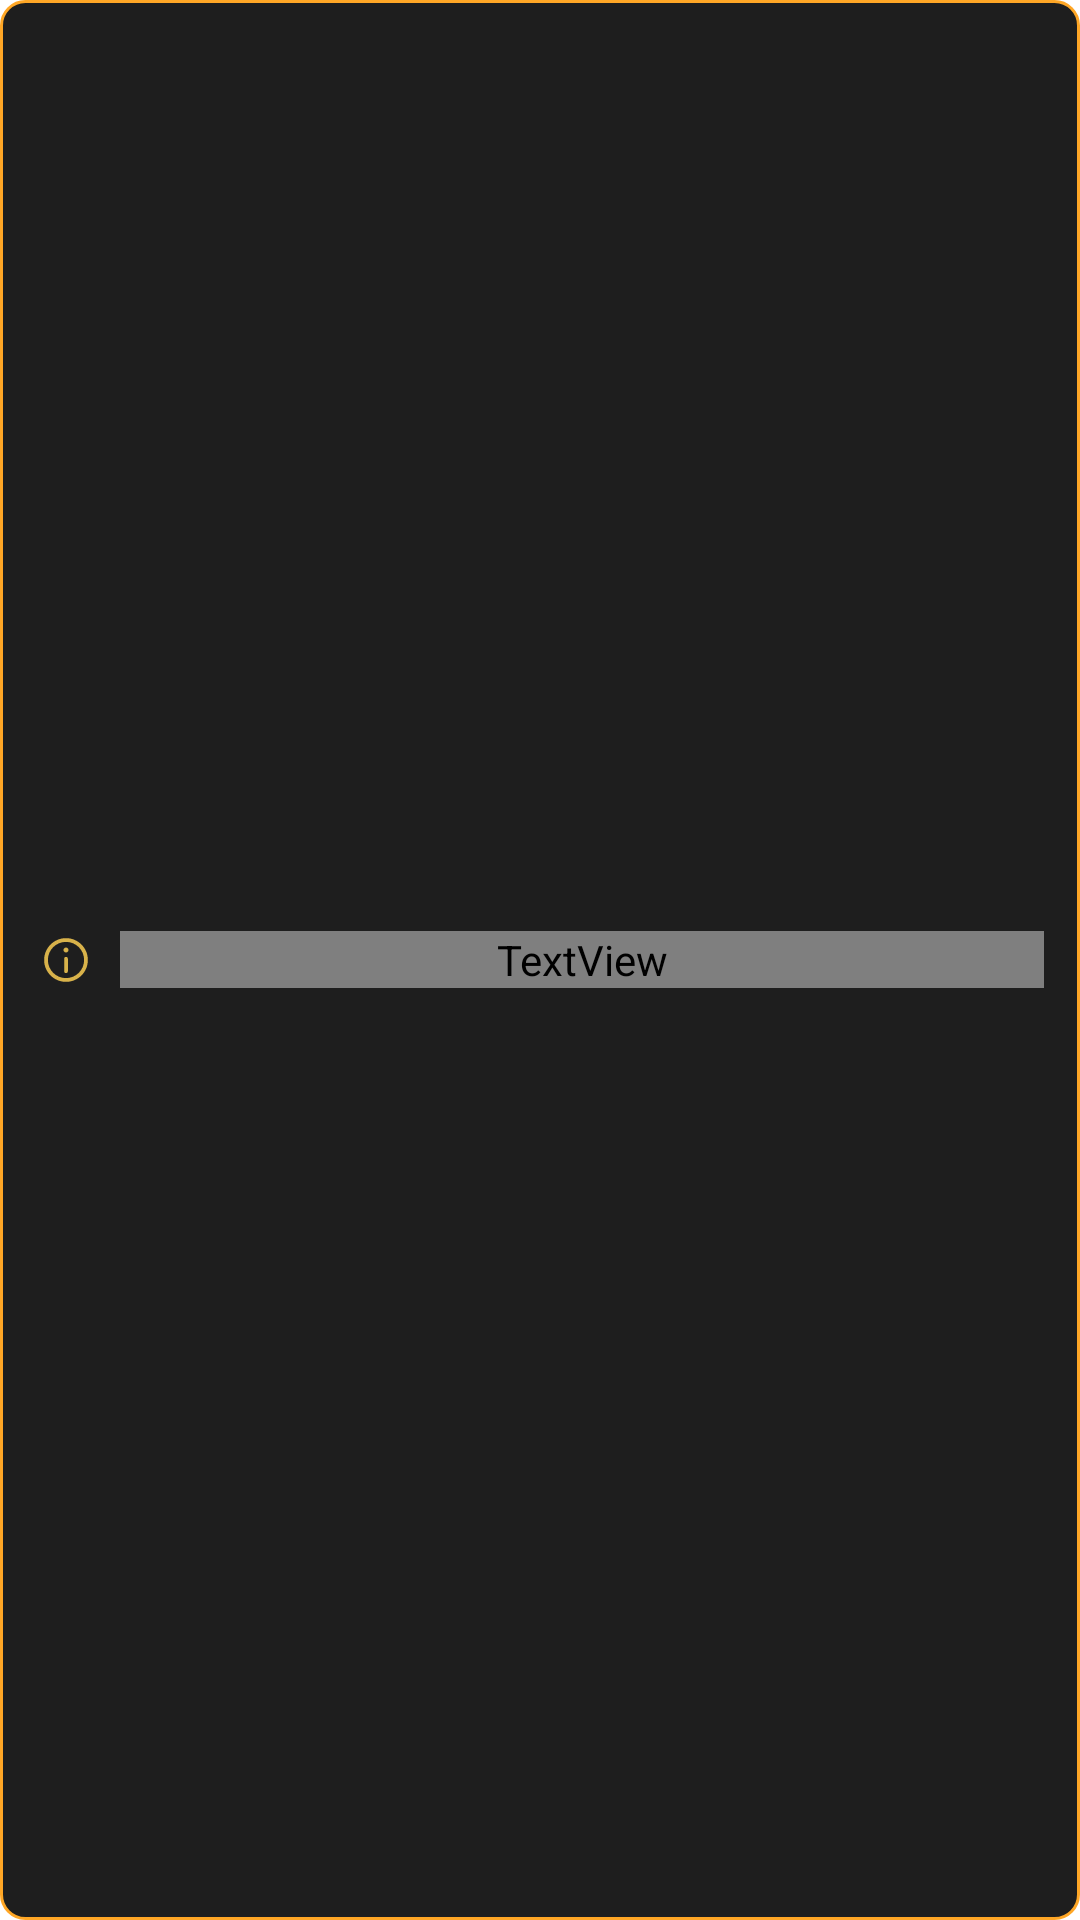

Icons on this 1080px x 1920px Android screen, each with the point to tap as point (x, y):
info: point (66, 960)
